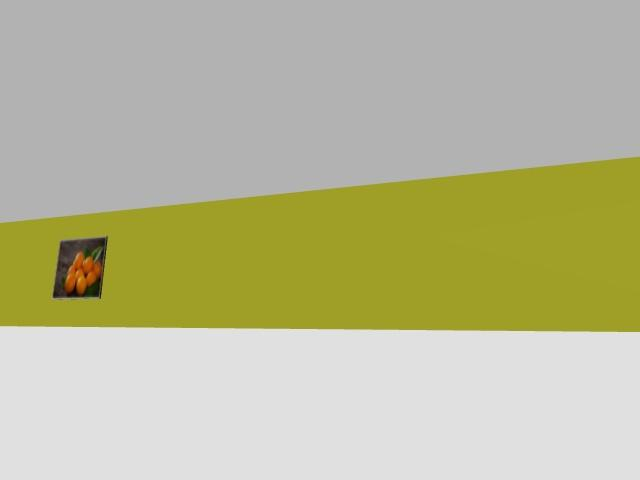orange: (82, 256, 93, 274), (76, 276, 86, 295), (65, 275, 75, 293), (73, 252, 83, 269), (86, 271, 96, 285), (93, 261, 101, 277), (75, 269, 84, 279), (67, 265, 75, 275)
